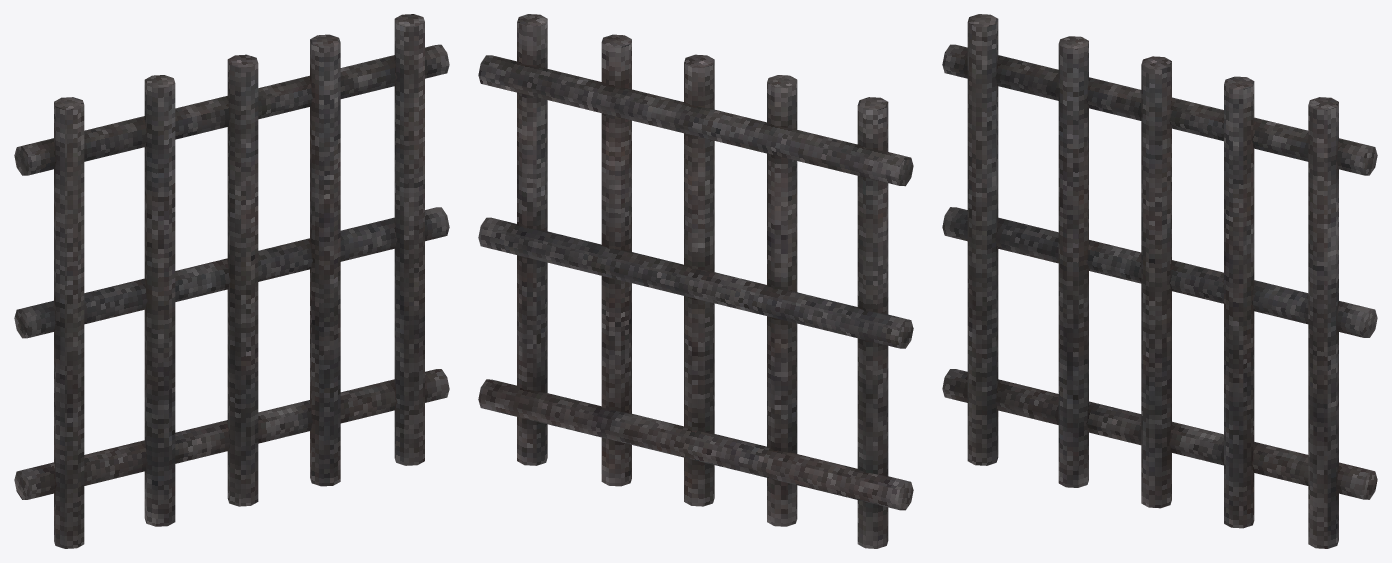
Rendered from Iron_Bars.gltf.
3 views of the same model, side by side, from view 1: azimuth 30°, elevation 25°; view 2: azimuth 150°, elevation 25°; view 3: azimuth 330°, elevation 25° (orthographic).
Parts seen in each view (by area): view 1: Iron_Bars; view 2: Iron_Bars; view 3: Iron_Bars.
Part boxes in pixels (x1=…): Iron_Bars: x1=14, y1=14, x2=449, y2=548; Iron_Bars: x1=478, y1=14, x2=913, y2=548; Iron_Bars: x1=942, y1=14, x2=1377, y2=548.
Bounding box in the file's own units: 5.25 × 5.25 × 0.4969.
1 material, 1 textured.
